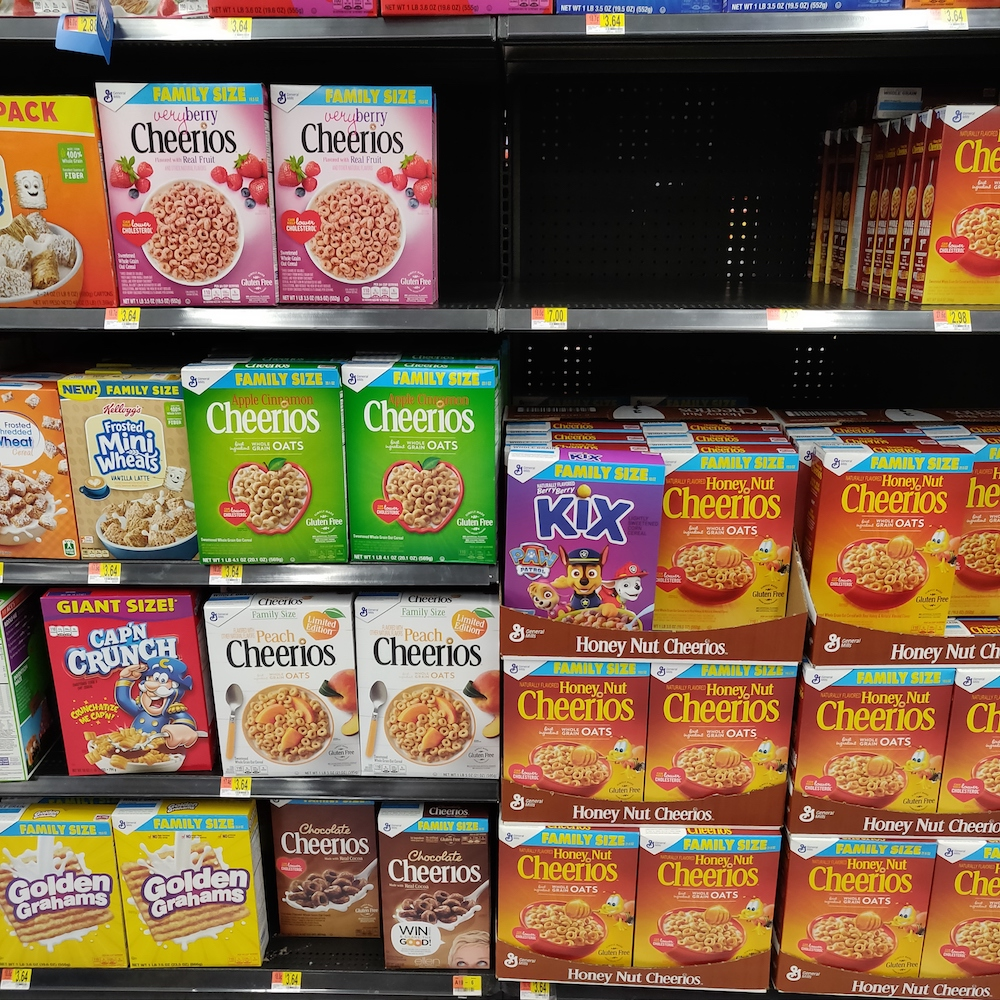Kix Berry -568919964: (504, 461, 657, 633)
